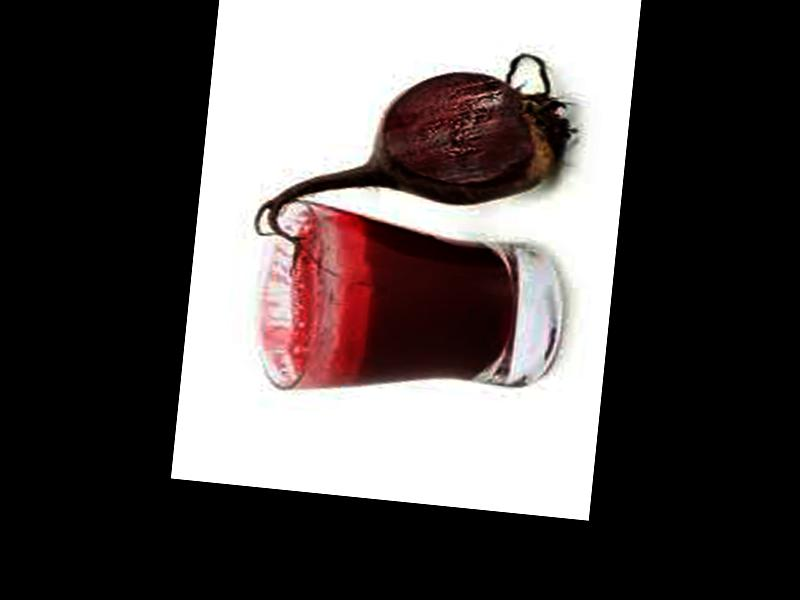Beet: (250, 29, 580, 293)
